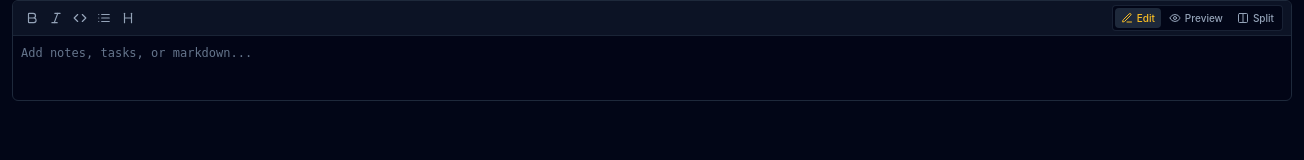
MarkdownEditor Component › 2. Markdown Toolbar Formatting Buttons › applies Italic formatting (*text*) on button click
Click the button with test id "md-btn-italic": (56, 18) [45,7,67,29]
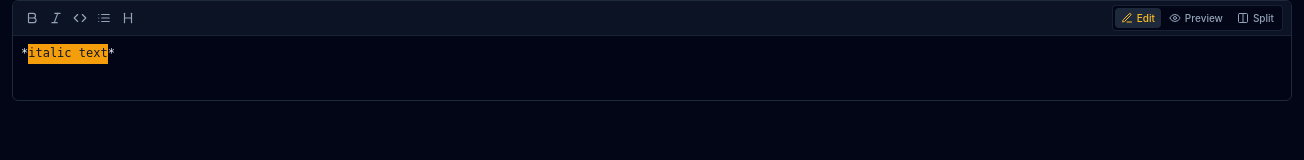
Expected: the text box with test id "markdown-textarea" holds "*italic text*", [13,36,1291,100]
